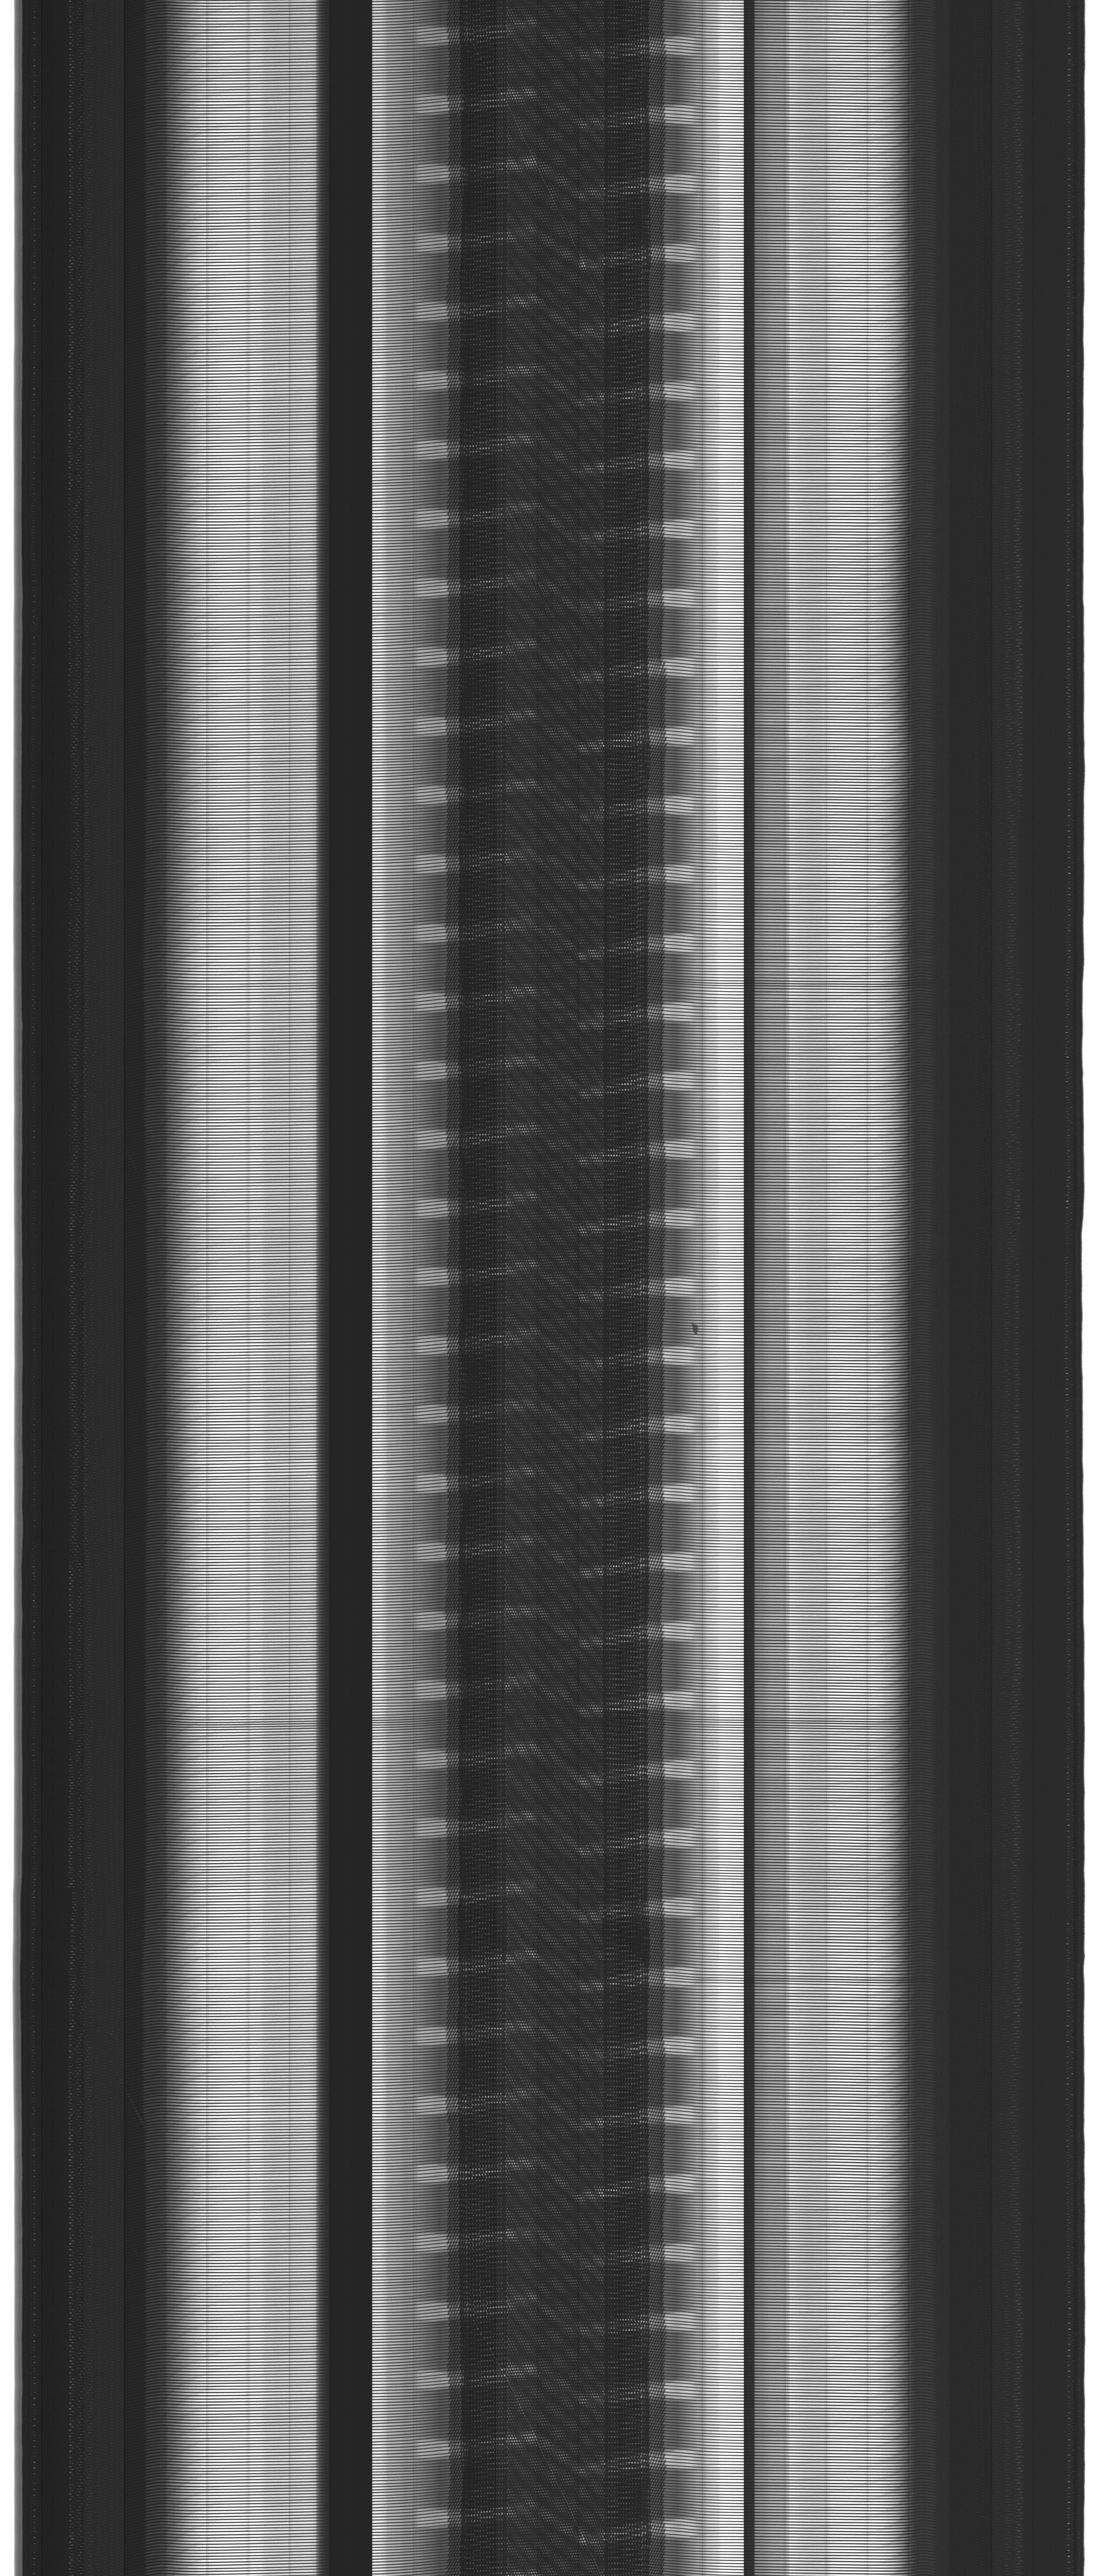712B: (676, 1304, 713, 1347)
